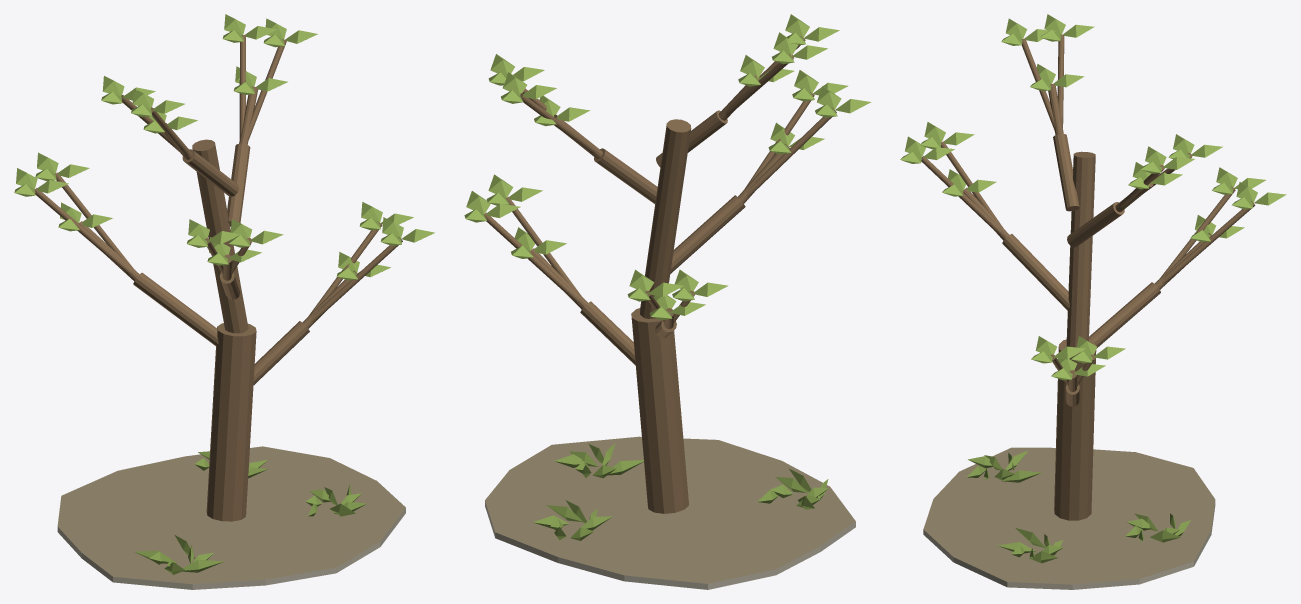
The model's file is Skeletal_Tree_Sprouting.glb.
3 views of the same model, side by side, from view 1: azimuth 30°, elevation 25°; view 2: azimuth 150°, elevation 25°; view 3: azimuth 270°, elevation 25° (orthographic). The views are drawn at different scales.
Visible parts, largest first — view 1: Growth, Support; view 2: Growth, Support; view 3: Growth, Support.
Boxes of the visible parts, x1,y1,x2,y2 form: Growth: [14, 14, 434, 574]; Support: [57, 446, 405, 589]; Growth: [464, 14, 871, 540]; Support: [485, 436, 855, 589]; Growth: [900, 14, 1286, 563]; Support: [923, 447, 1215, 589].
Size of the model in its own units: 3.06 by 4.11 by 3.24.
